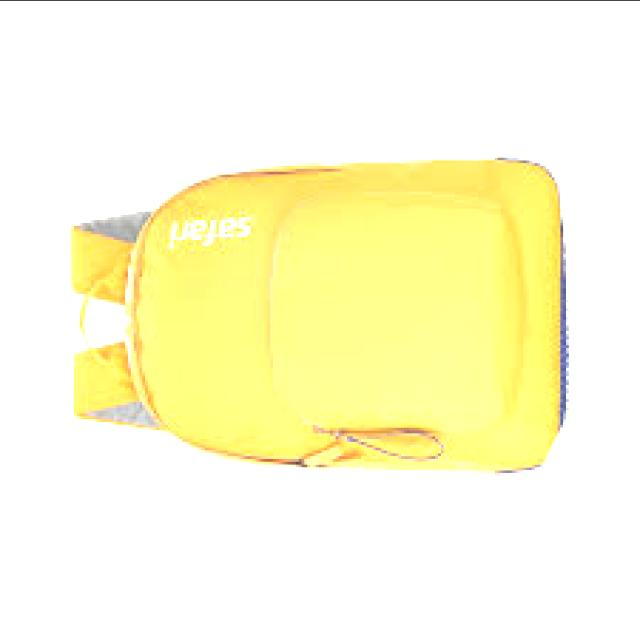backpack: (69, 158, 567, 476)
